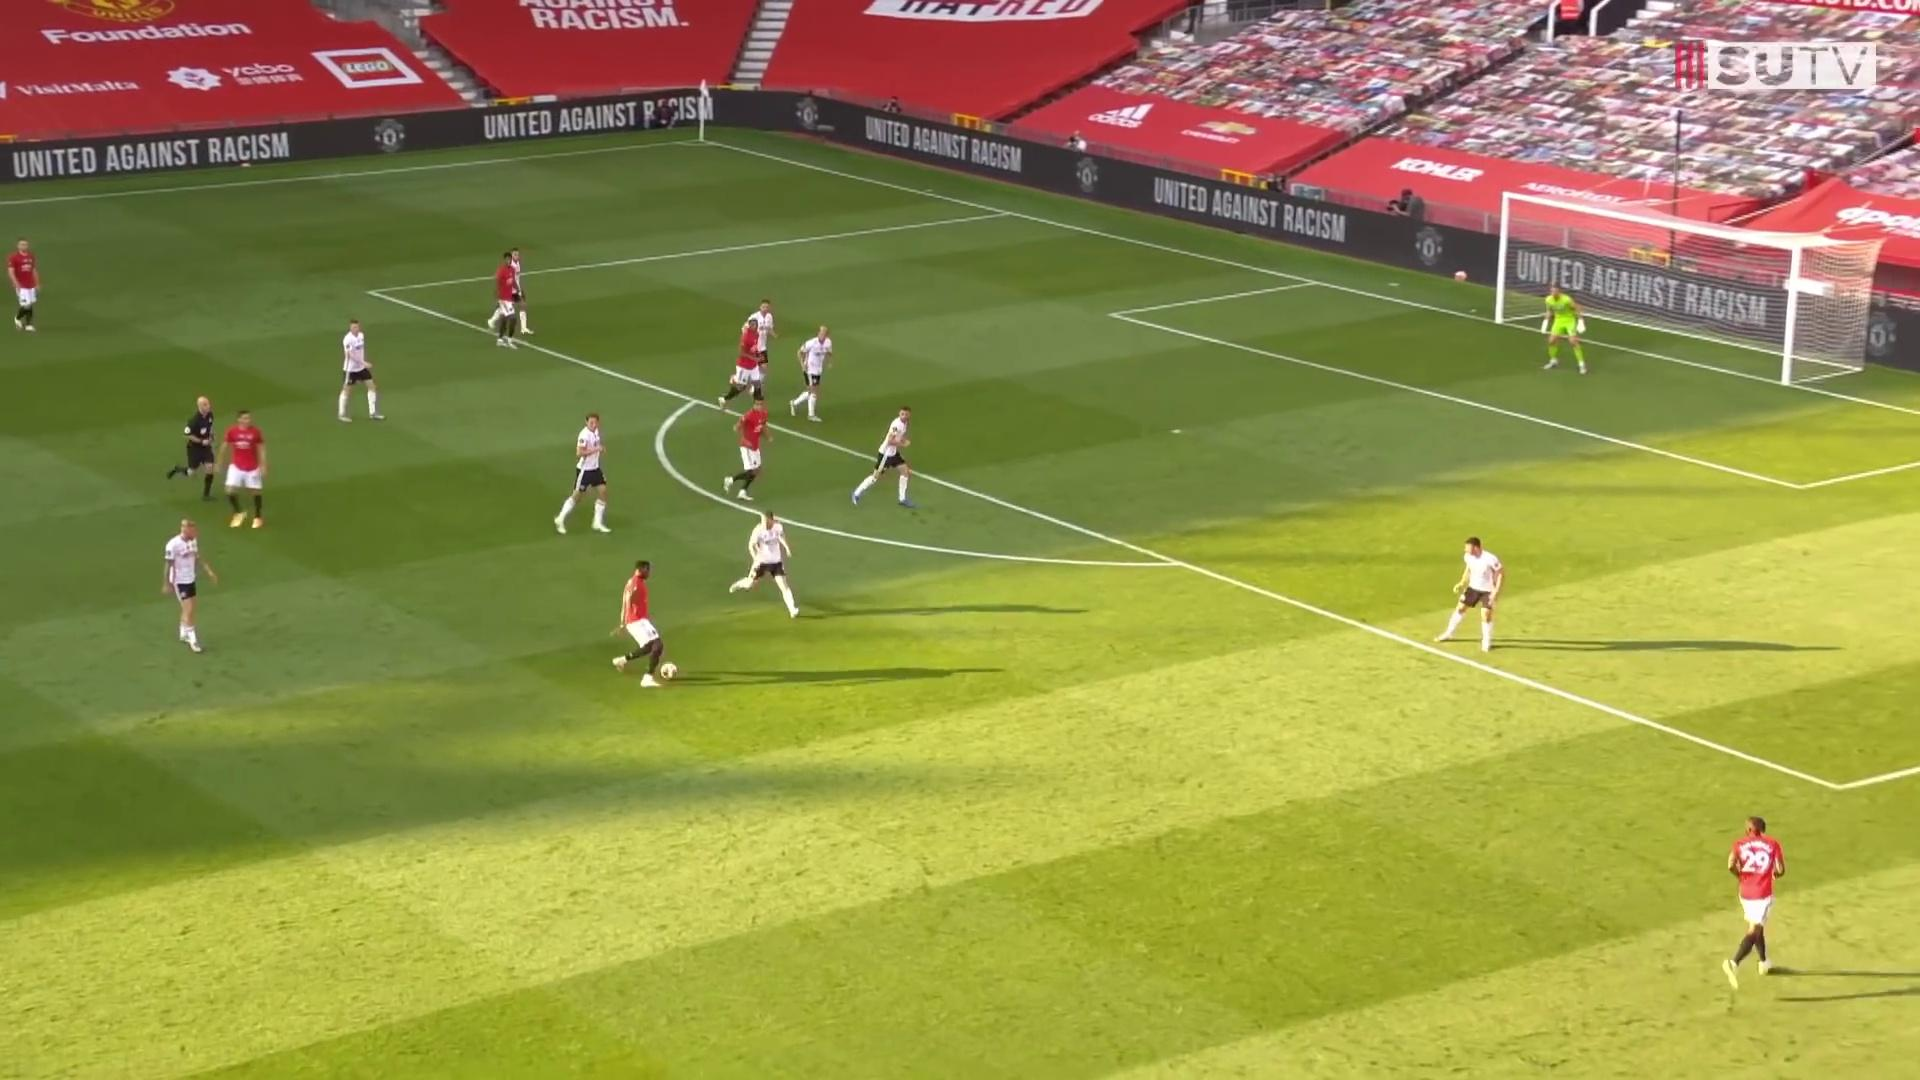ball: (657, 659, 681, 684)
goalkeeper: (1536, 280, 1592, 380)
player: (1718, 812, 1790, 992), (1430, 534, 1512, 656), (724, 503, 806, 622), (549, 409, 619, 538), (158, 516, 222, 657), (606, 555, 667, 692), (848, 399, 920, 513), (213, 406, 272, 532), (720, 294, 781, 408), (720, 391, 779, 504), (332, 314, 387, 425), (715, 314, 771, 417), (785, 321, 839, 425), (482, 247, 538, 336), (4, 234, 49, 337), (494, 251, 519, 352)
referee: (163, 392, 221, 507)
